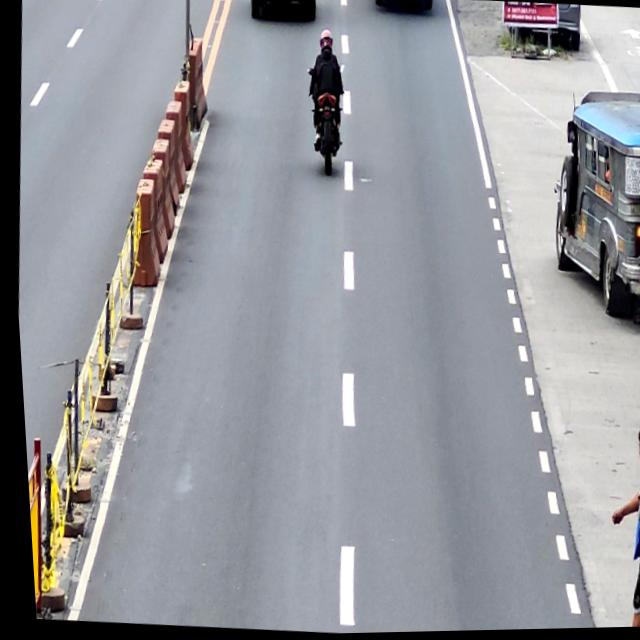Jeep: (536, 85, 640, 327)
Motorcycle: (300, 61, 348, 176)
